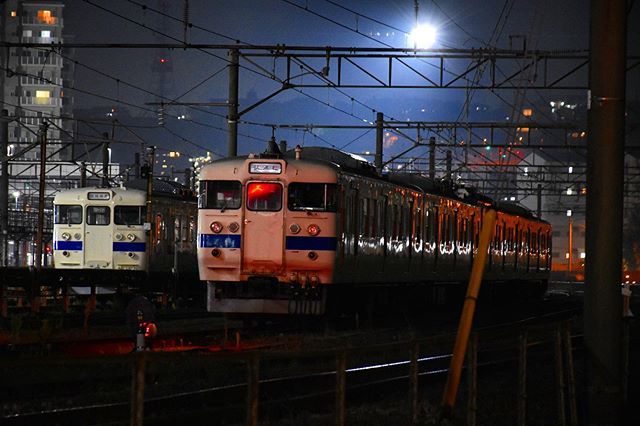building: (1, 1, 67, 160)
train: (201, 144, 556, 337), (51, 182, 198, 290)
train track: (1, 300, 576, 426)
